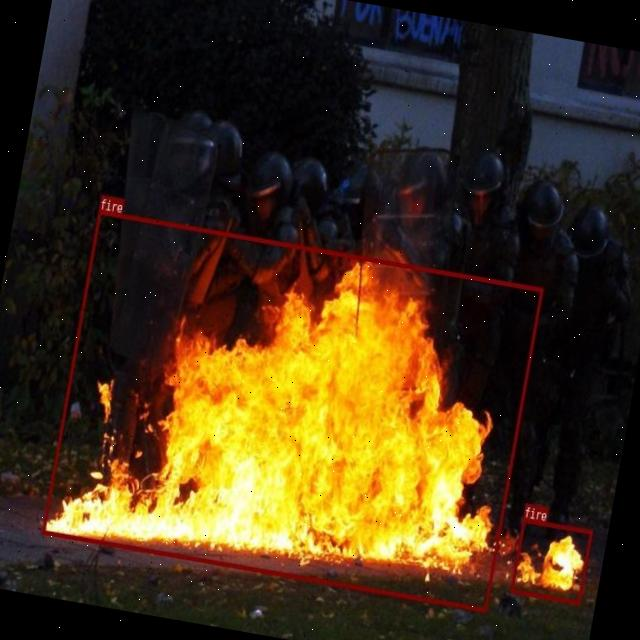fire: (41, 209, 543, 611), (508, 517, 592, 604)
